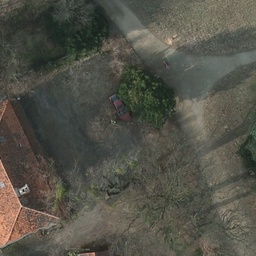car: (103, 87, 137, 121)
